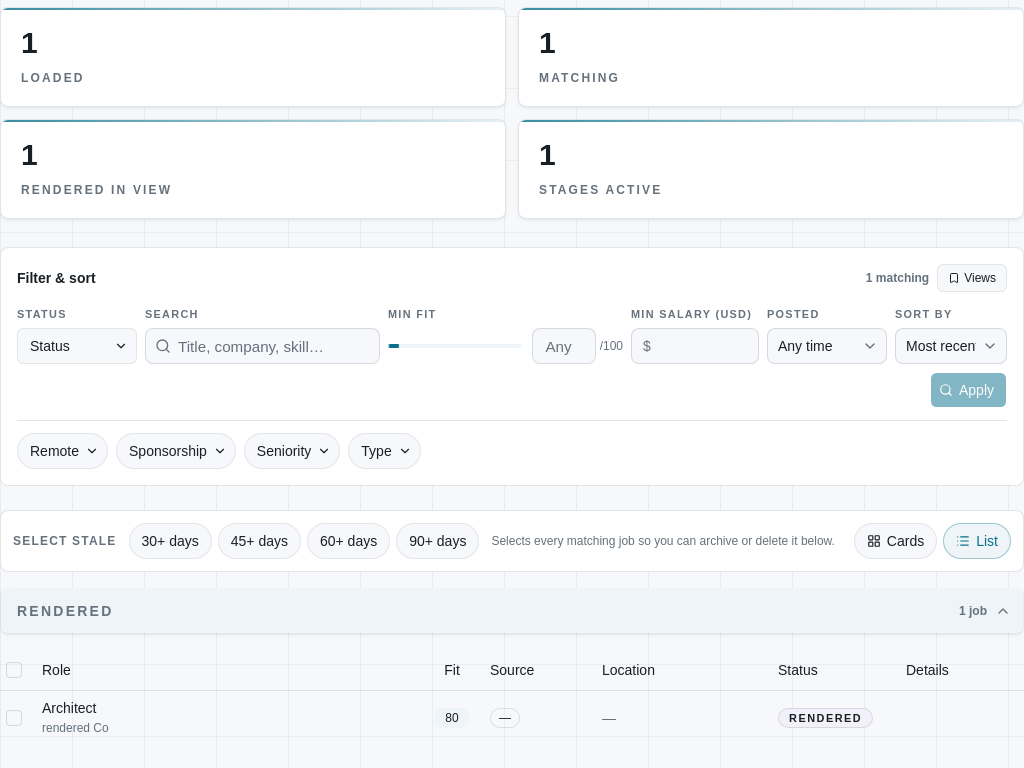
PipelineContainer › allows redo on a rendered job
(page scrolled)
Click the checkbox named "Select rendered Co Architect" at [14, 718], box [6,710,22,726]
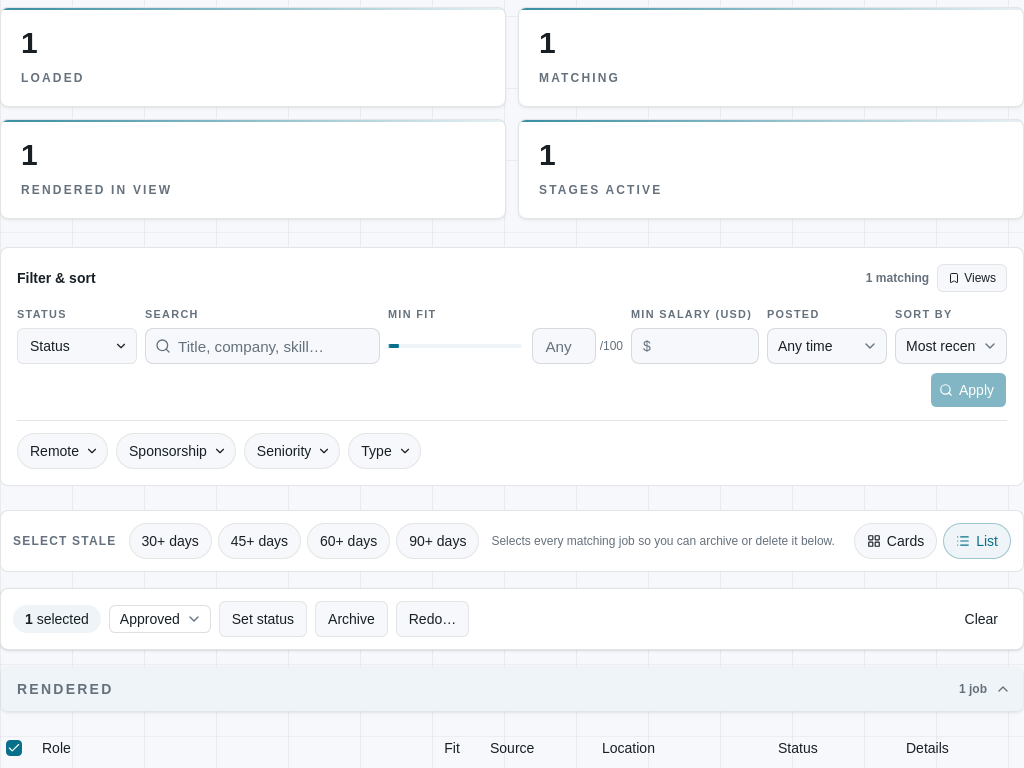
Click the button "Redo…" at [432, 619], box [396,601,469,637]
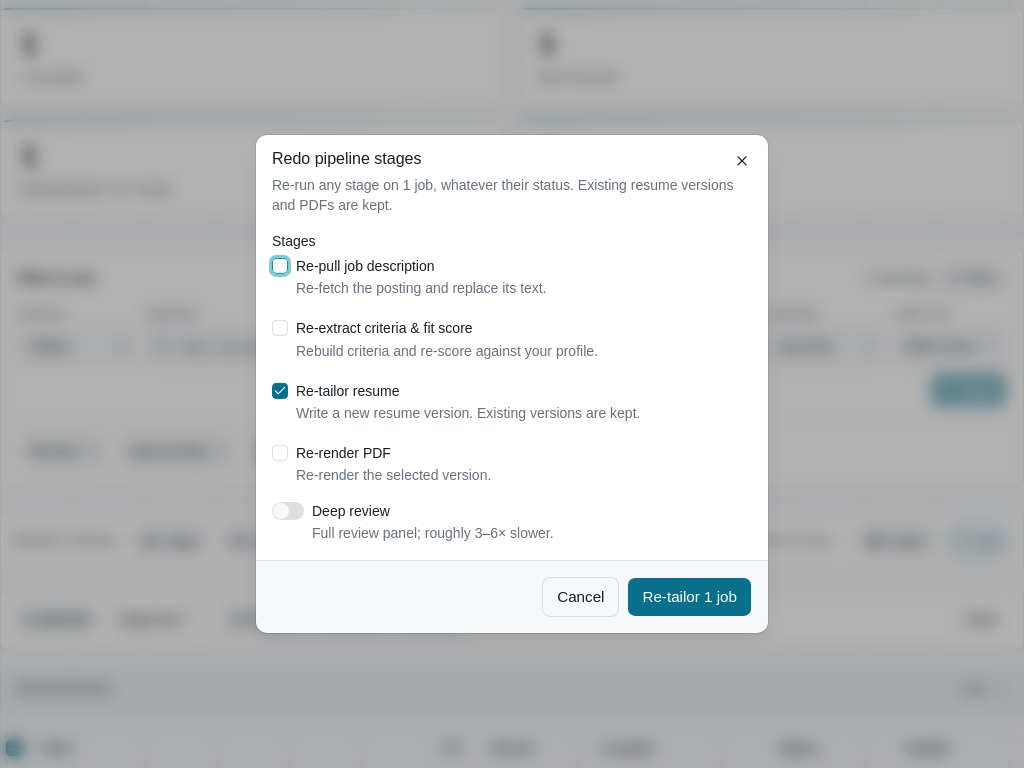
Check: the button "Re-tailor 1 job" is enabled, box [628,577,752,617]
